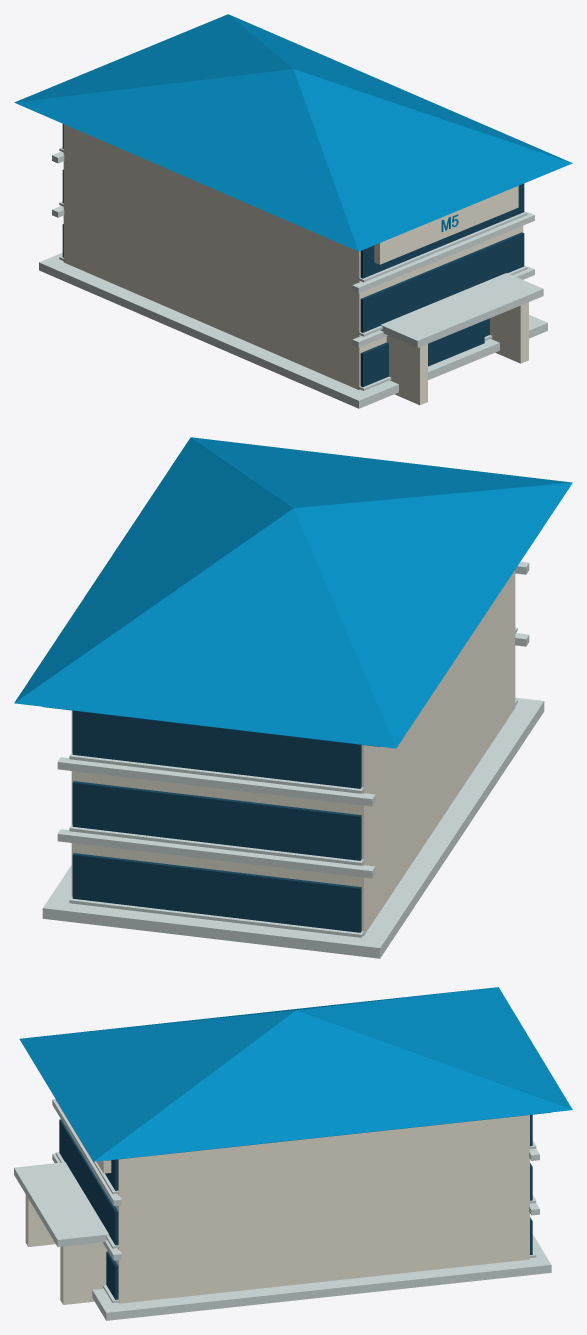
Rendered from mahad-m5.glb.
3 renders of one model, top to bottom at view 1: azimuth 30°, elevation 25°; view 2: azimuth 150°, elevation 25°; view 3: azimuth 270°, elevation 25°, orthographic. The views are drawn at different scales.
Visible parts, largest first — view 1: Mahad_M5_blue, Mahad_M5_ivory, Mahad_M5_trim, Mahad_M5_glass; view 2: Mahad_M5_blue, Mahad_M5_glass, Mahad_M5_ivory, Mahad_M5_trim; view 3: Mahad_M5_blue, Mahad_M5_ivory, Mahad_M5_trim, Mahad_M5_glass.
Boxes of the visible parts, box(x1,y1,x2,y2) form: Mahad_M5_blue: box(14, 14, 572, 251); Mahad_M5_ivory: box(63, 124, 528, 405); Mahad_M5_trim: box(39, 147, 547, 408); Mahad_M5_glass: box(62, 124, 524, 387); Mahad_M5_blue: box(14, 437, 572, 748); Mahad_M5_glass: box(72, 710, 361, 932); Mahad_M5_ivory: box(71, 570, 515, 935); Mahad_M5_trim: box(42, 561, 544, 958); Mahad_M5_blue: box(19, 987, 572, 1161); Mahad_M5_ivory: box(25, 1115, 529, 1304); Mahad_M5_trim: box(14, 1099, 551, 1320); Mahad_M5_glass: box(59, 1114, 532, 1299).
Size of the model in its own units: 23.4 by 14.75 by 31.63.
